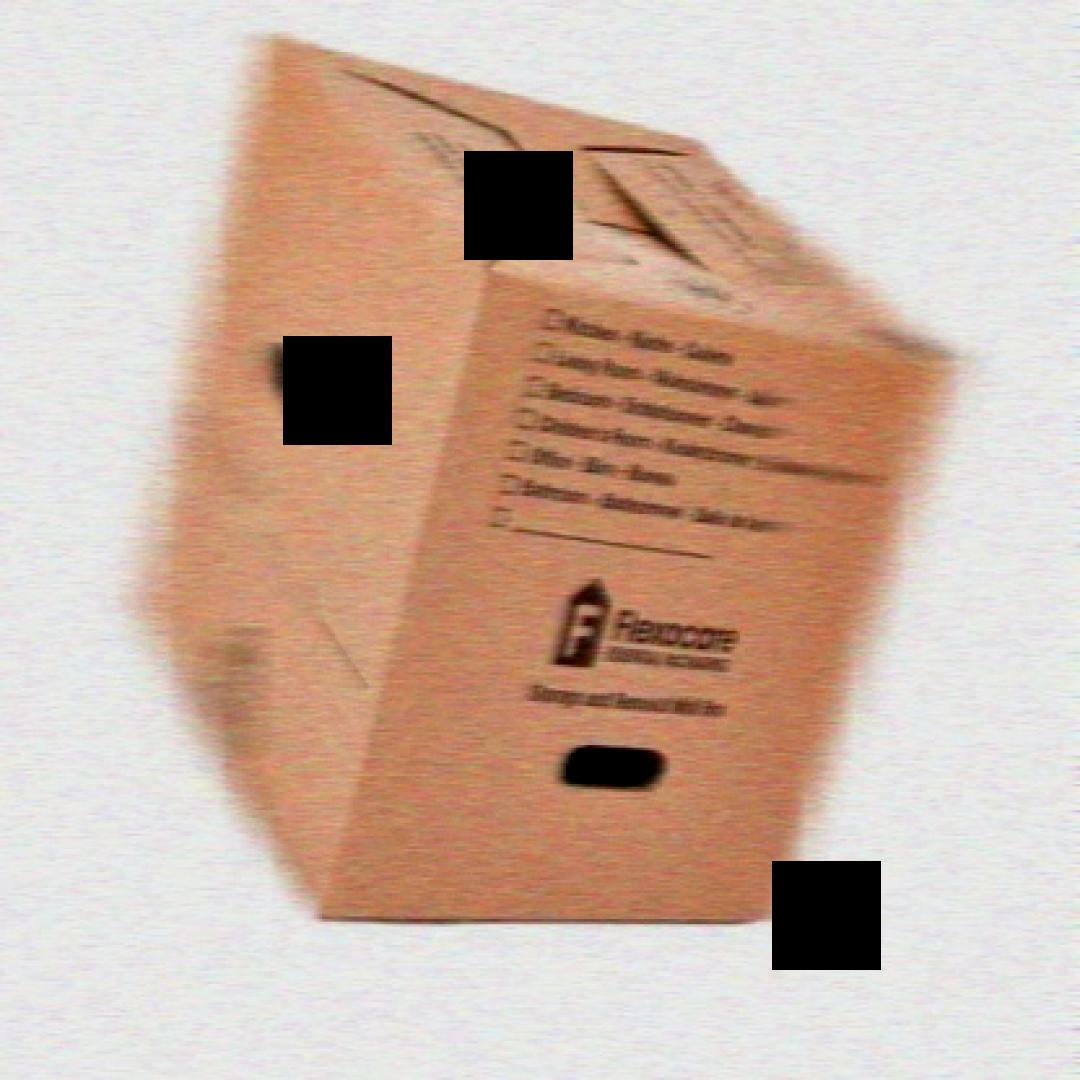package: (140, 31, 963, 935)
